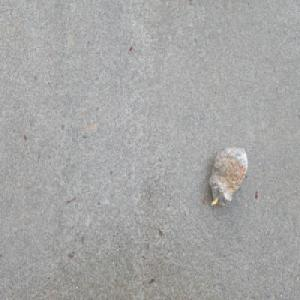Rock: (208, 144, 248, 209)
